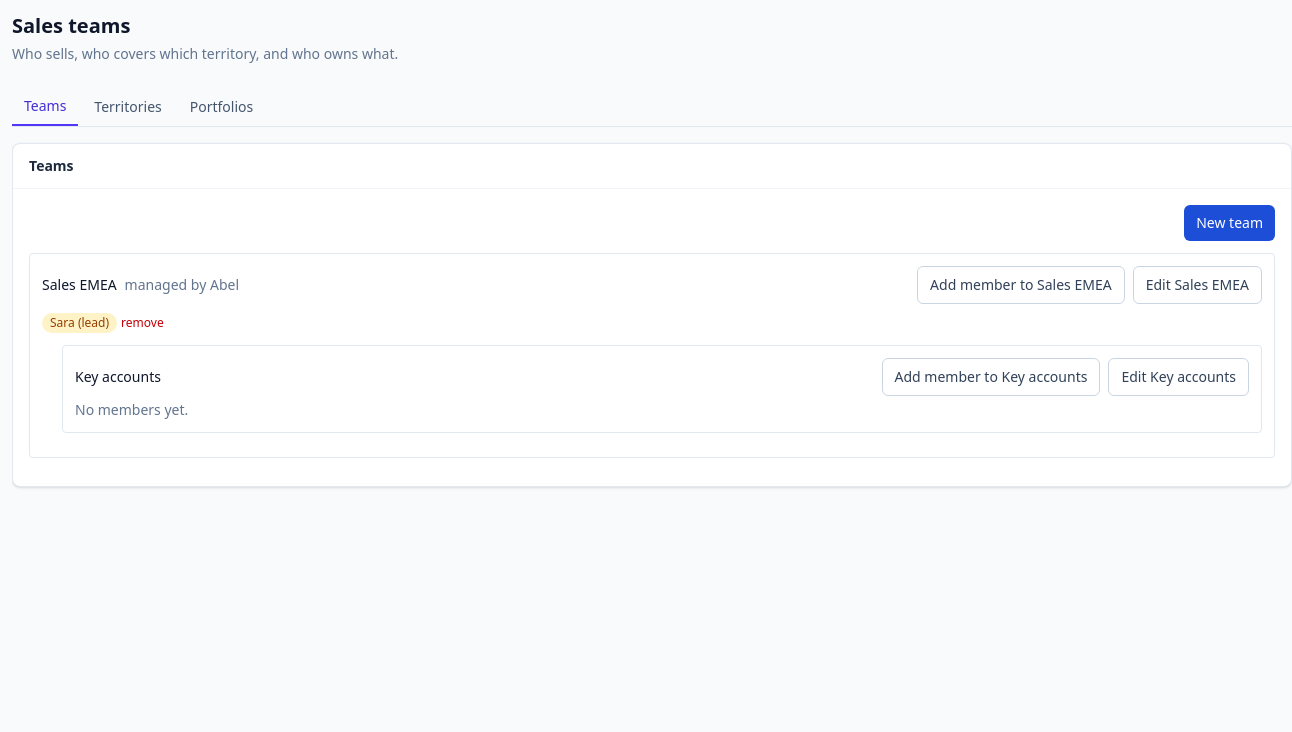
Test: TeamsPage › removes a member and shows a server refusal
The image size is (1292, 732).
Click the button with aria-label "Remove Sara from Sales EMEA" at (142, 323), box [121, 315, 164, 331]
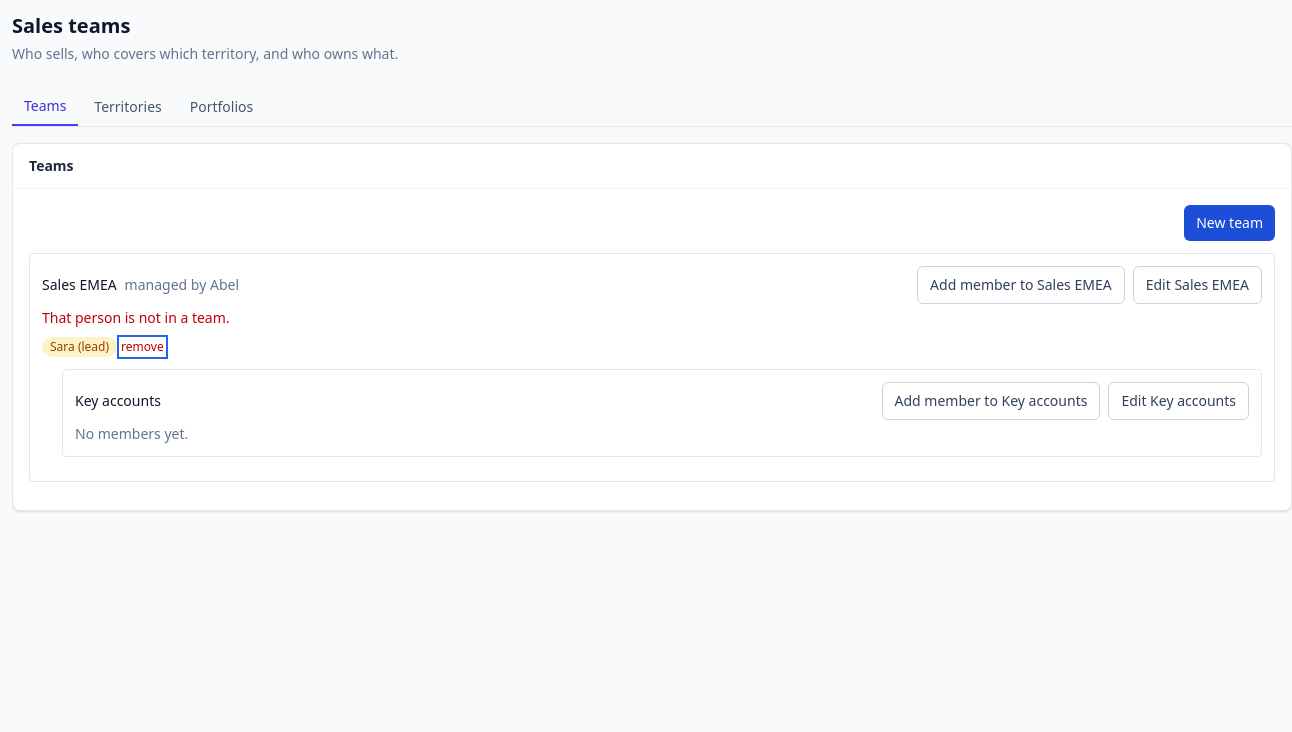
Expected: the text "That person is not in a team." is shown, [42, 308, 230, 327]
